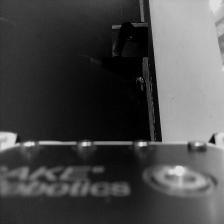Door Handle: (112, 22, 148, 58)
Lock: (132, 73, 148, 97)
